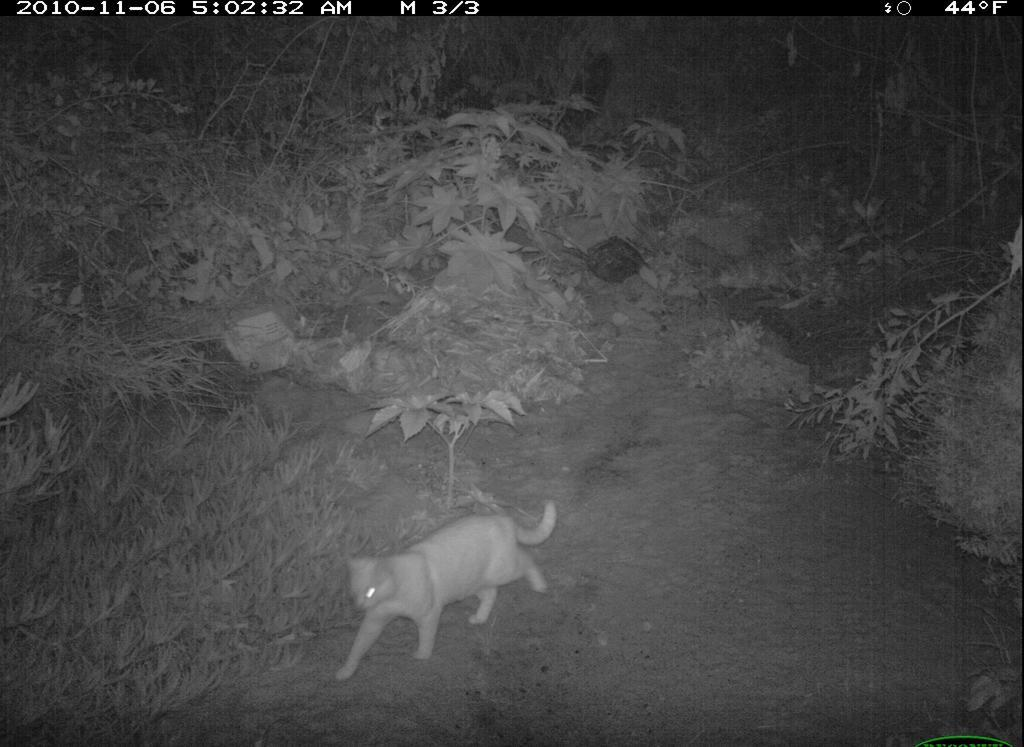cat: (326, 501, 569, 687)
